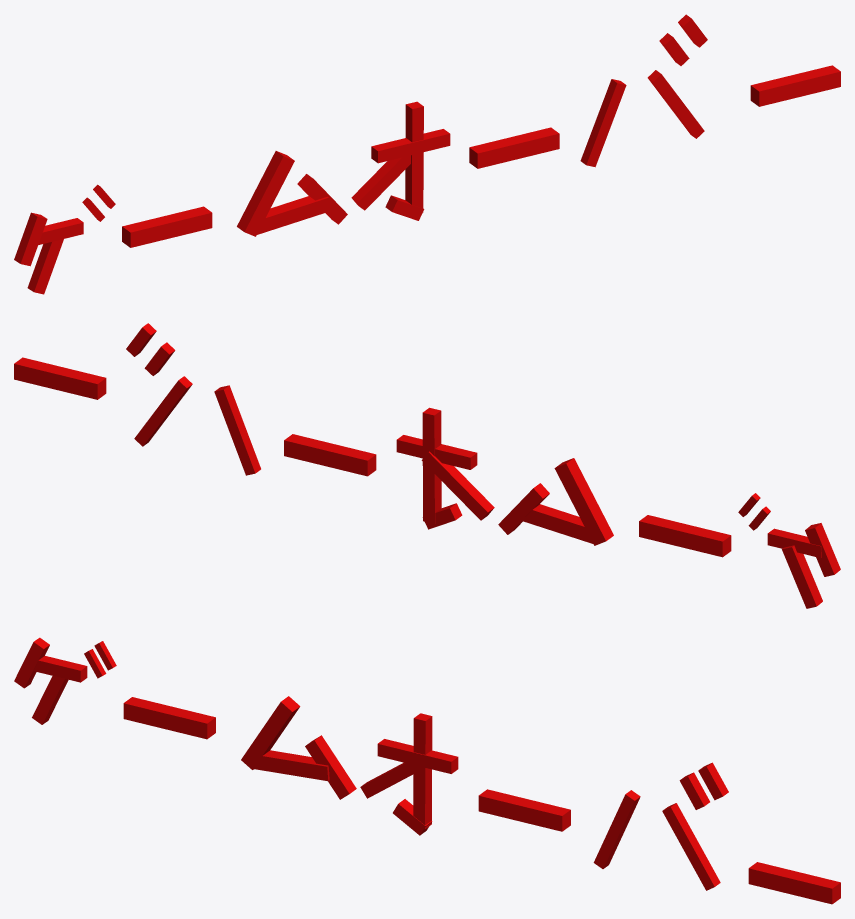
The model's file is GameOverModel.fbx.
3 views of the same model, one above another, from view 1: azimuth 30°, elevation 25°; view 2: azimuth 150°, elevation 25°; view 3: azimuth 330°, elevation 25° (orthographic). The views are drawn at different scales.
Visible parts, largest first — view 1: pCube24; view 2: pCube24; view 3: pCube24.
Part boxes in pixels (x1=…): pCube24: x1=14, y1=14, x2=840, y2=294; pCube24: x1=14, y1=323, x2=840, y2=608; pCube24: x1=14, y1=637, x2=840, y2=904.
Size of the model in its own units: 55.08 by 8.59 by 2.33.
